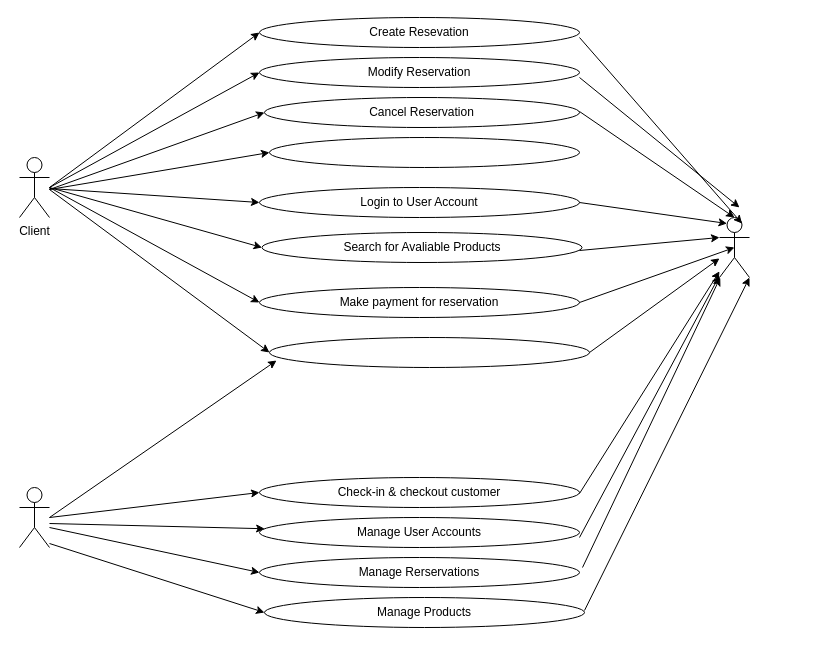
Image size: 827x645. Some labels were removed from this diagram. The shapes that lost their labels are listed below. From the top down, each one's centre as x and y in pixels, then its label:
(424,152): Create User account
(734,247): Resort Management System
(429,352): View Reservation Details
(34,517): Admin
